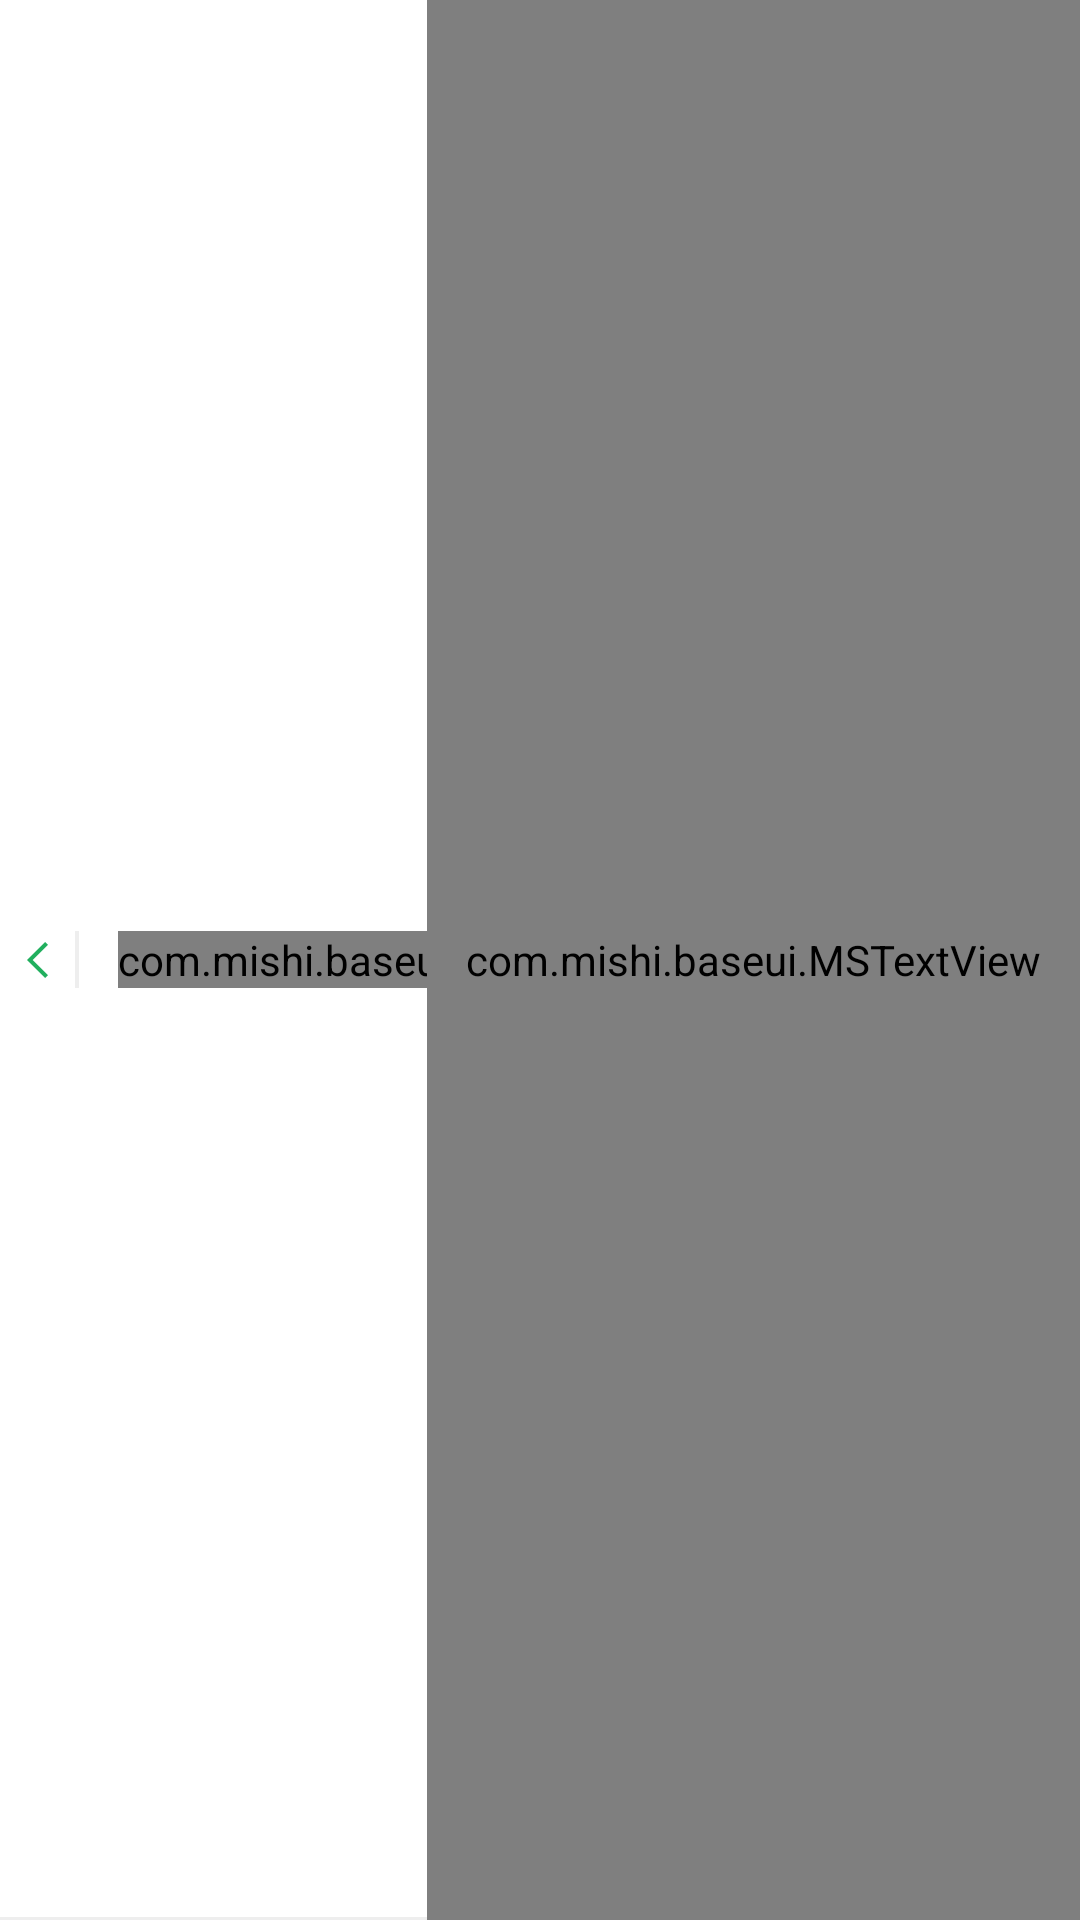

Where icons sit on this 1080w x 1920h app screen, as region(x1, y1, x2, y2):
arrow back: region(27, 942, 48, 978)
